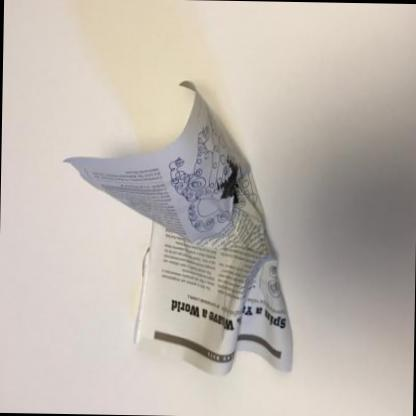Paper: (65, 82, 292, 375)
